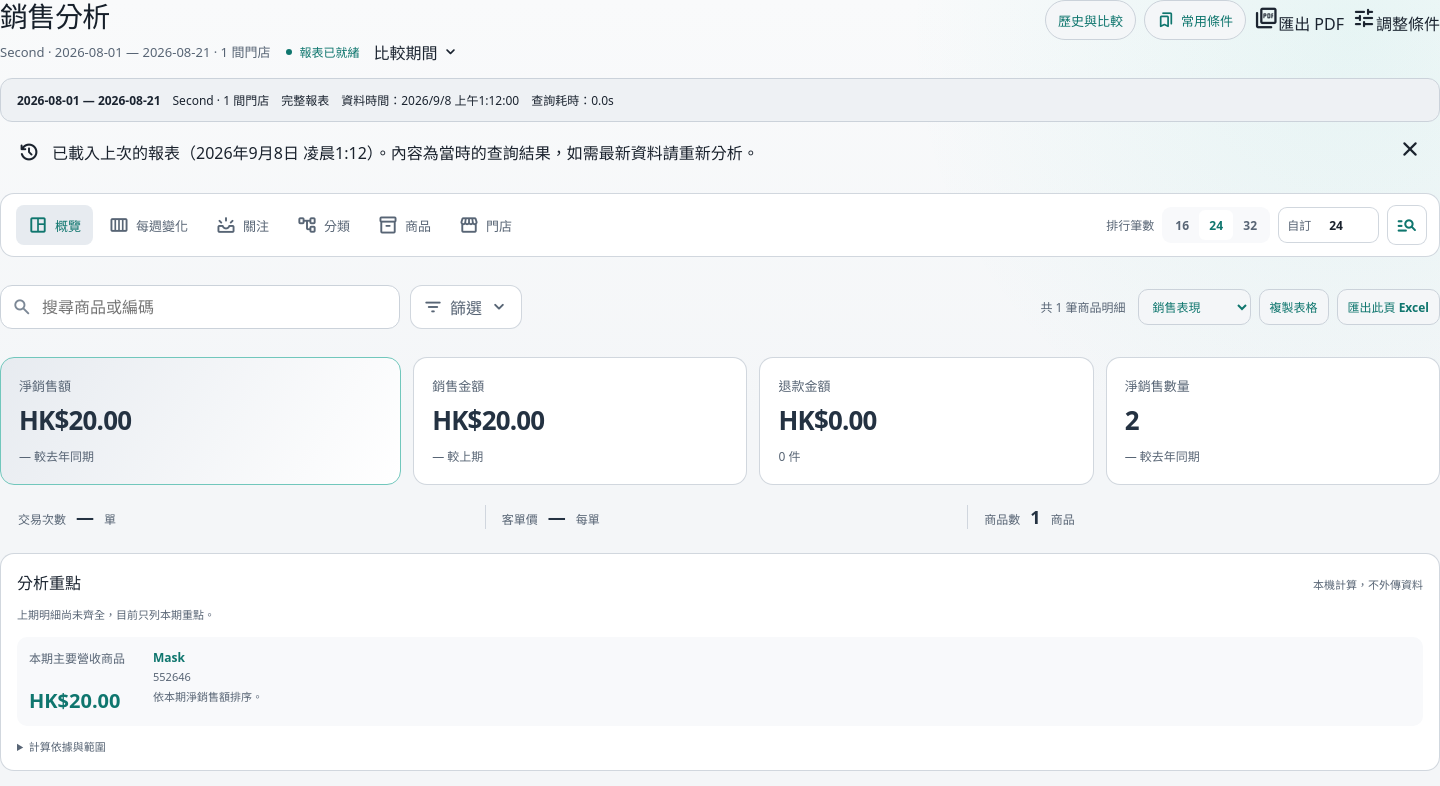
analysis workspace interactions › restores the desktop report cache with its account and time, then clears the hint on rerun
This screenshot has width=1440, height=786.
Expected: the text with class "report-context" shows "Second · 2026-08-01 — 2026-08-21", [0, 43, 270, 61]
Click the text "調整條件": (1396, 20) [1352, 6, 1439, 34]
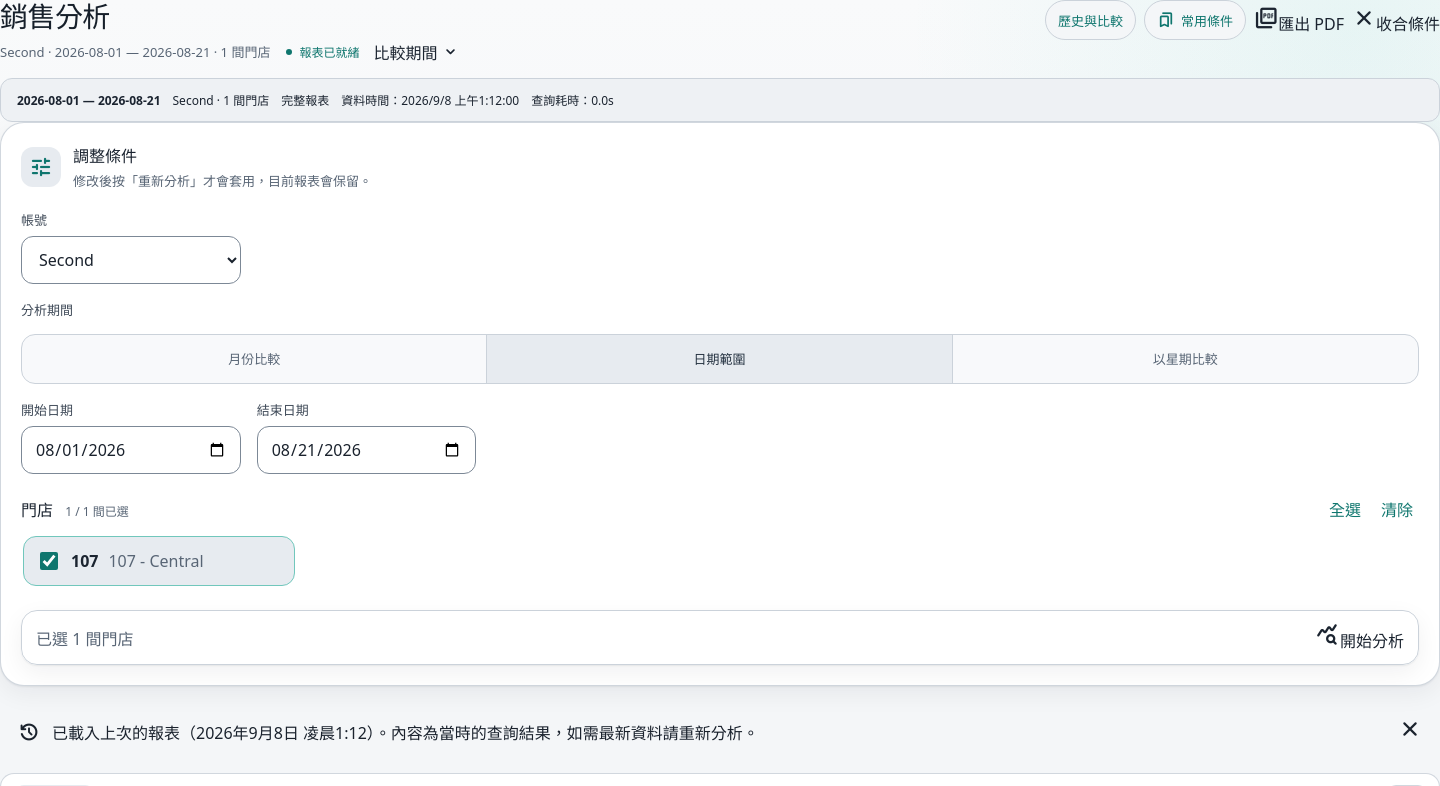
Expected: the dropdown labelled "帳號" shows "Second", [21, 236, 241, 284]
Click the text "開始分析": (1360, 638) [1316, 623, 1404, 652]
(page scrolled)
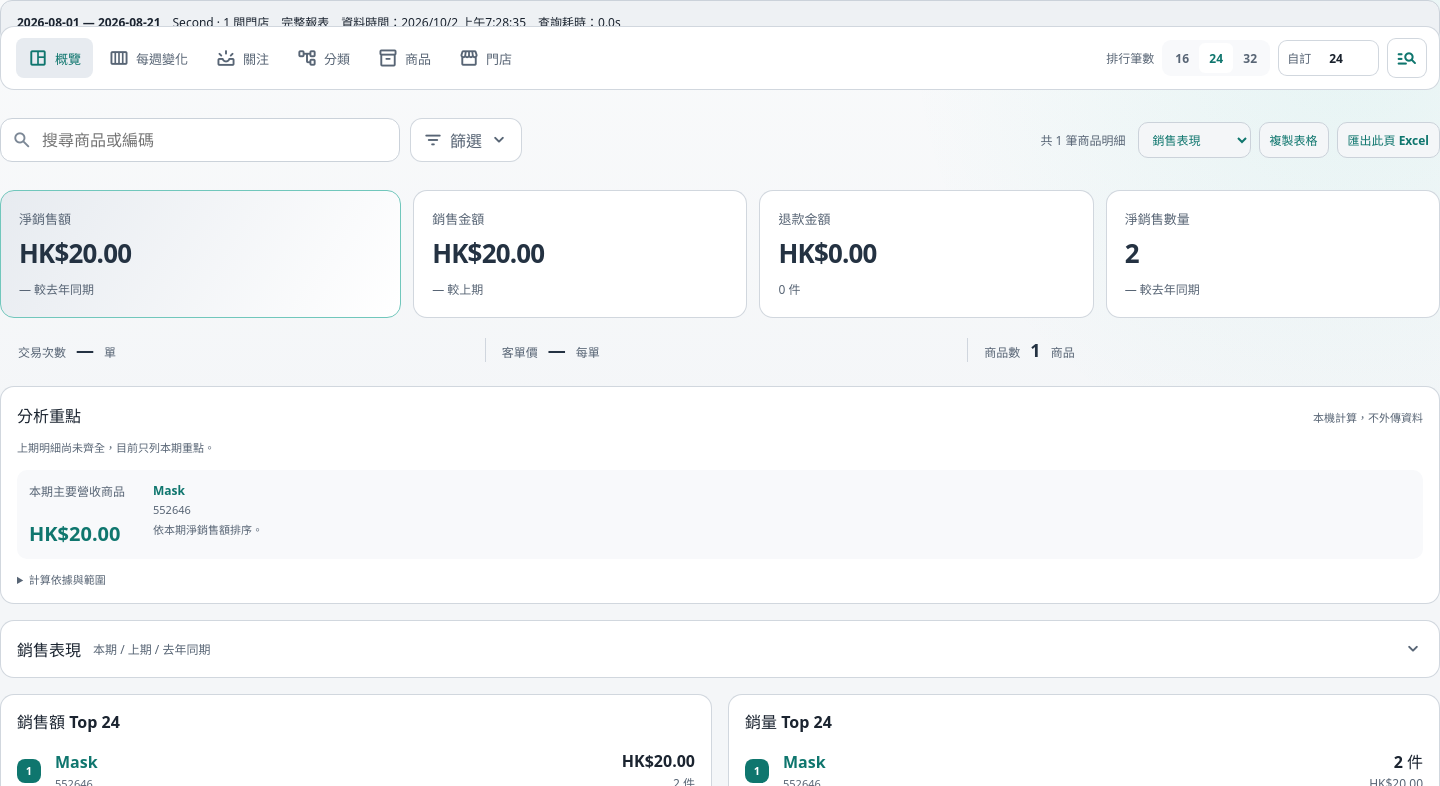
Expected: the heading "銷售額 Top 24" is shown, [17, 709, 120, 733]
Expected: the text "已載入上次的報表" is gone
